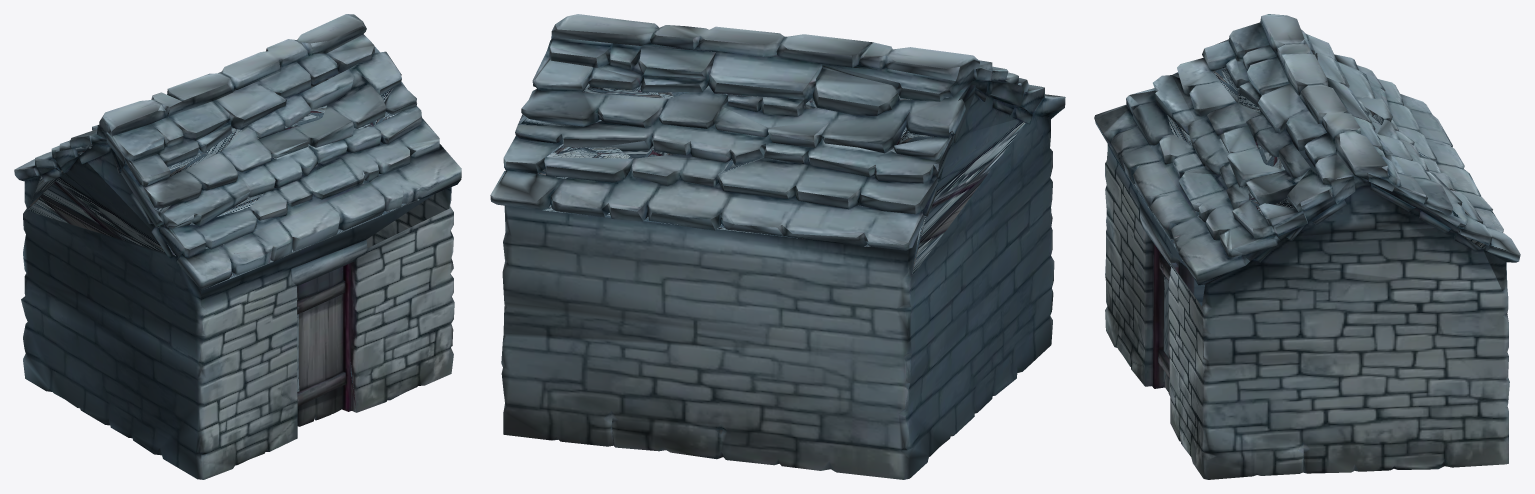
Rendered from stone_hut.glb.
The picture shows the model from 3 angles, left to right: view 1: azimuth 30°, elevation 25°; view 2: azimuth 150°, elevation 25°; view 3: azimuth 270°, elevation 25°; orthographic projection. The views are drawn at different scales.
Parts seen in each view (by area): view 1: model; view 2: model; view 3: model.
Part boxes in pixels (box(x1,y1,x2,y2)): model: box(14, 14, 461, 479); model: box(490, 14, 1065, 479); model: box(1094, 14, 1520, 479).
Bounding box in the file's own units: 1.17 × 1 × 1.24.
Materials: 1 (1 with a texture image).
